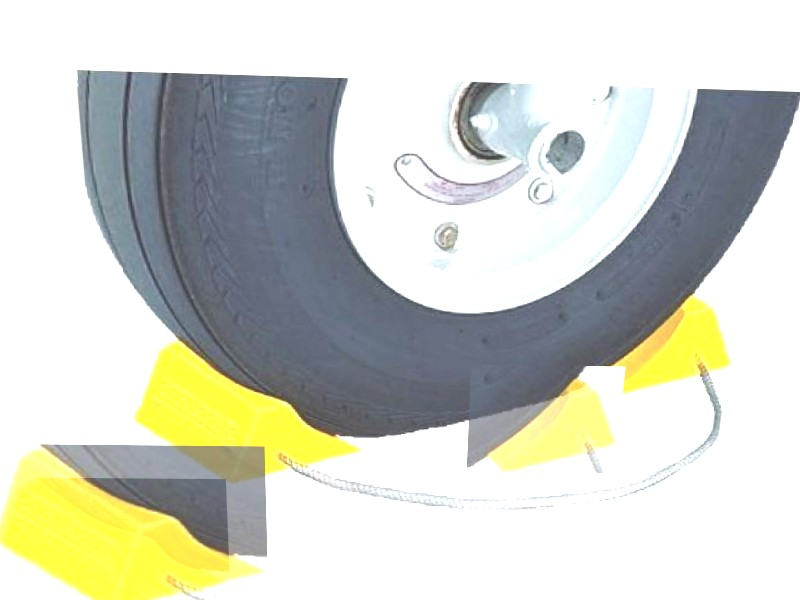chock: (0, 444, 269, 600), (127, 338, 365, 485), (0, 477, 231, 600), (574, 281, 743, 397), (466, 364, 626, 474)
wheel: (72, 73, 800, 445)
